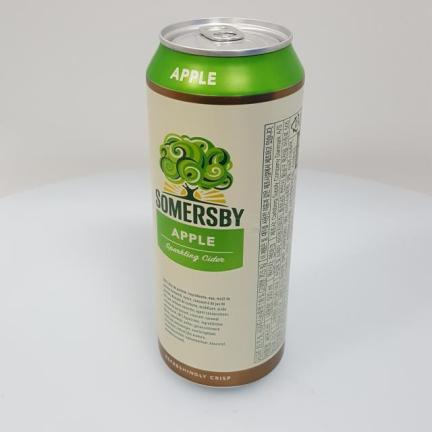can: (146, 19, 305, 386)
